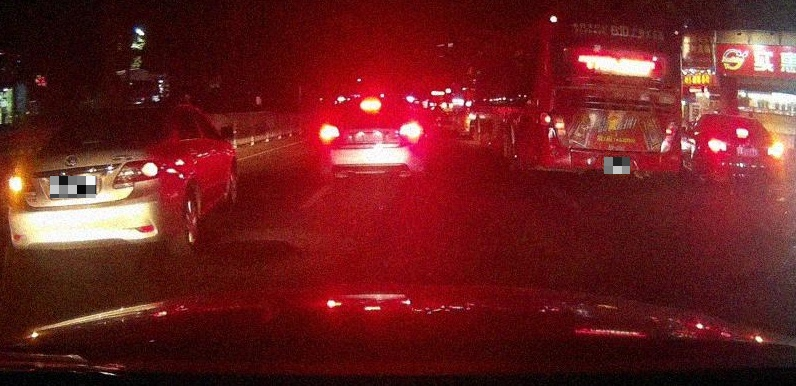L_light: (540, 110, 555, 148), (8, 176, 36, 193), (321, 126, 339, 139), (707, 140, 727, 151)
R_light: (112, 161, 161, 185), (666, 121, 680, 152), (399, 124, 422, 138), (767, 145, 784, 156), (90, 119, 110, 122)
T_light: (360, 101, 381, 110), (607, 45, 630, 51), (735, 130, 748, 136)
night-brake: (320, 96, 424, 181)
night-left: (8, 106, 183, 262)
night-no: (539, 4, 682, 189)
night-right: (702, 114, 785, 181)
plate_1: (50, 176, 96, 198)
plate_2: (604, 157, 630, 174)
